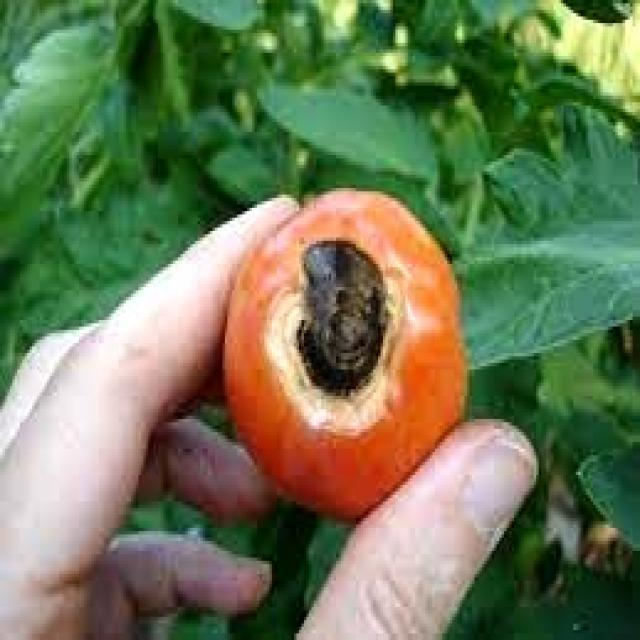Rotten_Tomato: (222, 188, 467, 521)
